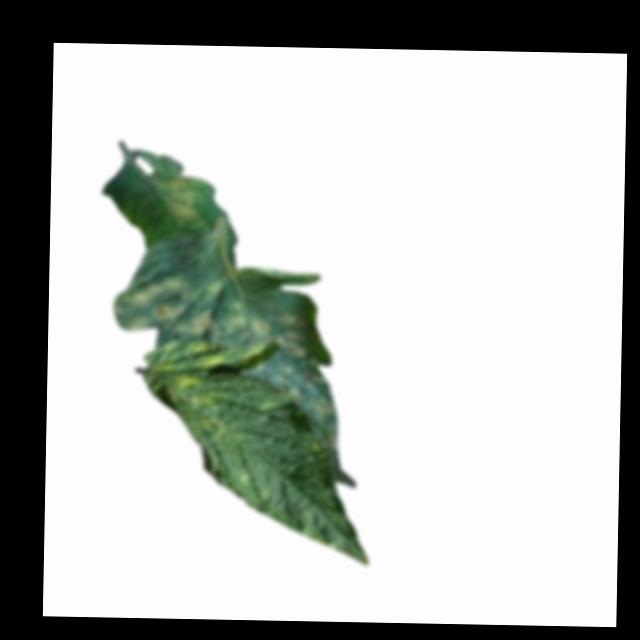Leaf_Mold: (109, 277, 310, 356), (143, 351, 228, 436), (149, 176, 199, 226)
